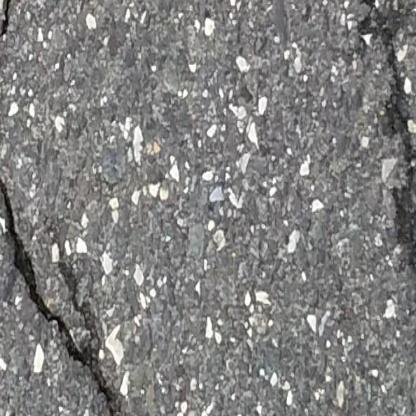Cracks: (328, 0, 416, 363), (0, 0, 21, 154)
